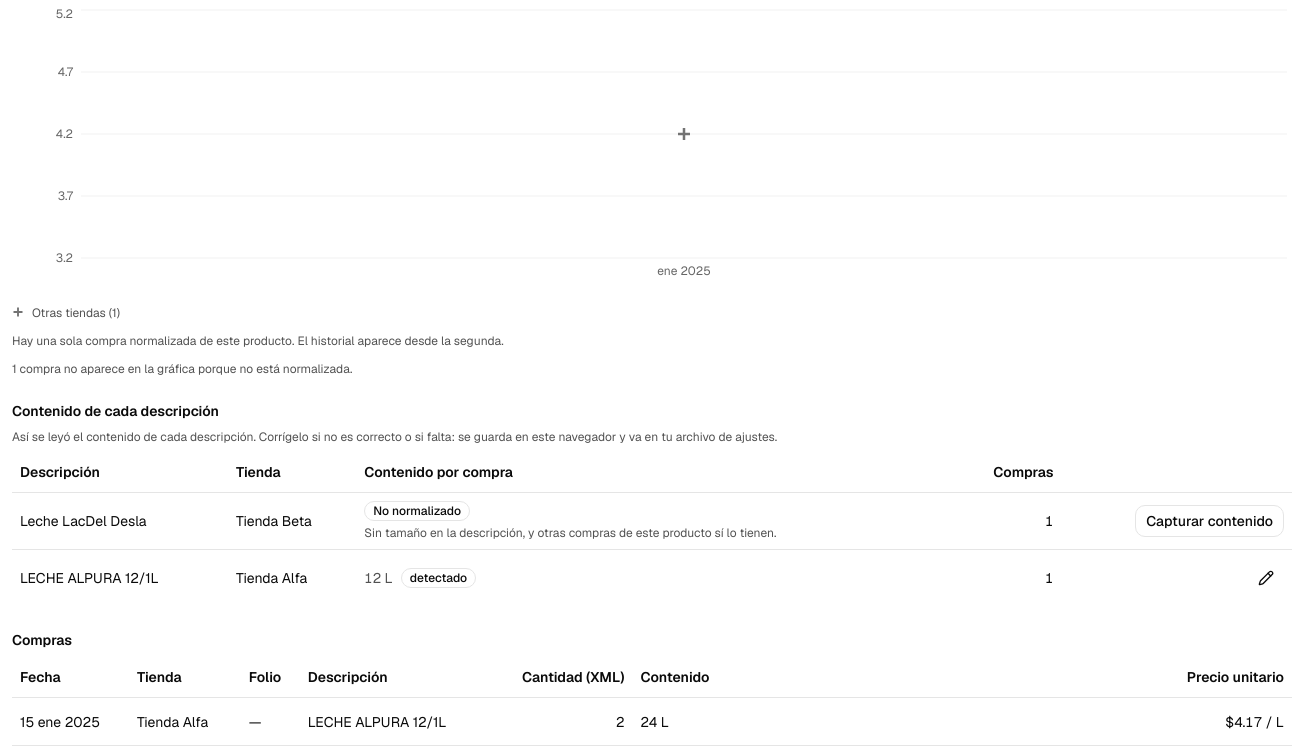
Test: Content editor: opening, fields and live preview (D-13, D-14) › opens under the member, focuses «Piezas por paquete» and shows labels, helper and the unit options
The width and height of the screenshot is (1304, 756).
(page scrolled)
What coordinates should you click on to do the following:
click the button "Capturar contenido"
I would click on:
 (1210, 521)
Its box is left=1135, top=505, right=1284, bottom=537.
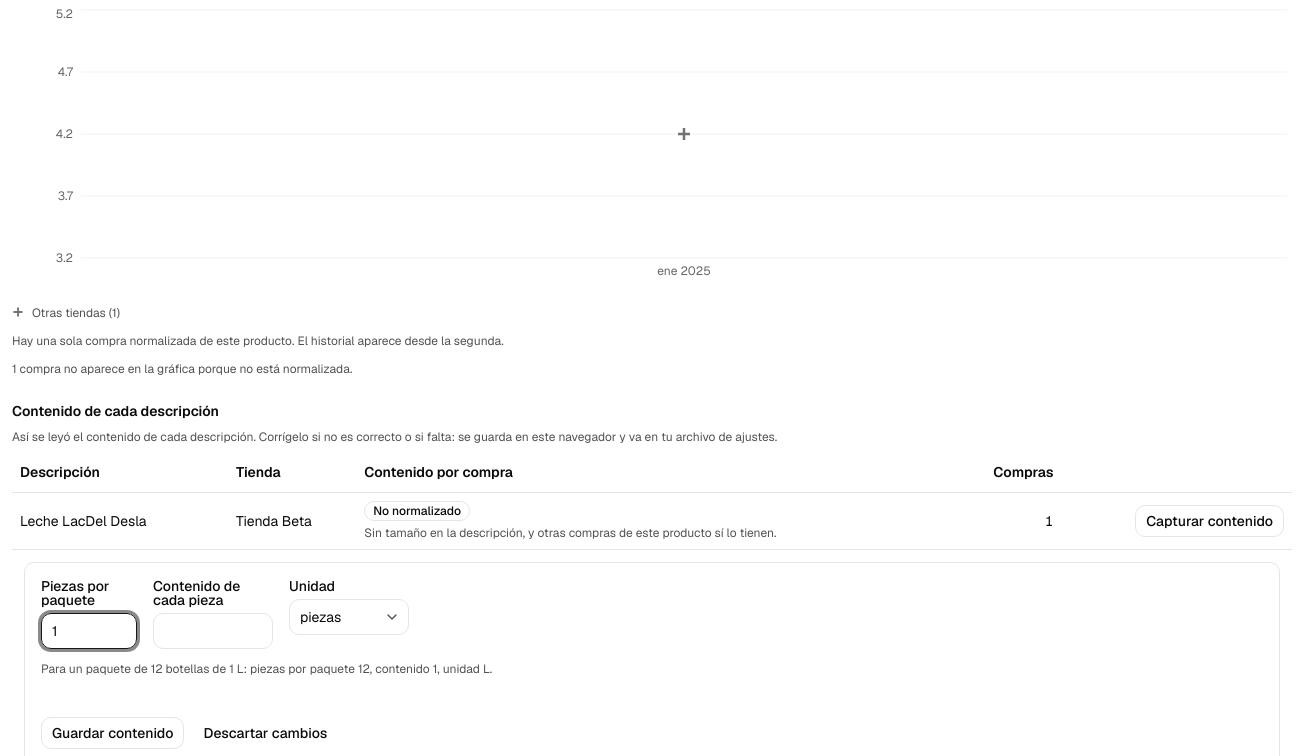
Expected: the field labelled "Piezas por paquete" holds "1", left=41, top=613, right=137, bottom=649
Expected: the text "Para un paquete de 12 botellas de 1 L: piezas por paquete 12, contenido 1, unidad L." is shown, left=41, top=661, right=492, bottom=677
Expected: the button "Guardar contenido" is shown, left=41, top=717, right=184, bottom=749
What coordinates should you click on to do the following:
click the dropdown named "Unidad"
I would click on:
 (349, 617)
Its box is left=289, top=599, right=409, bottom=635.
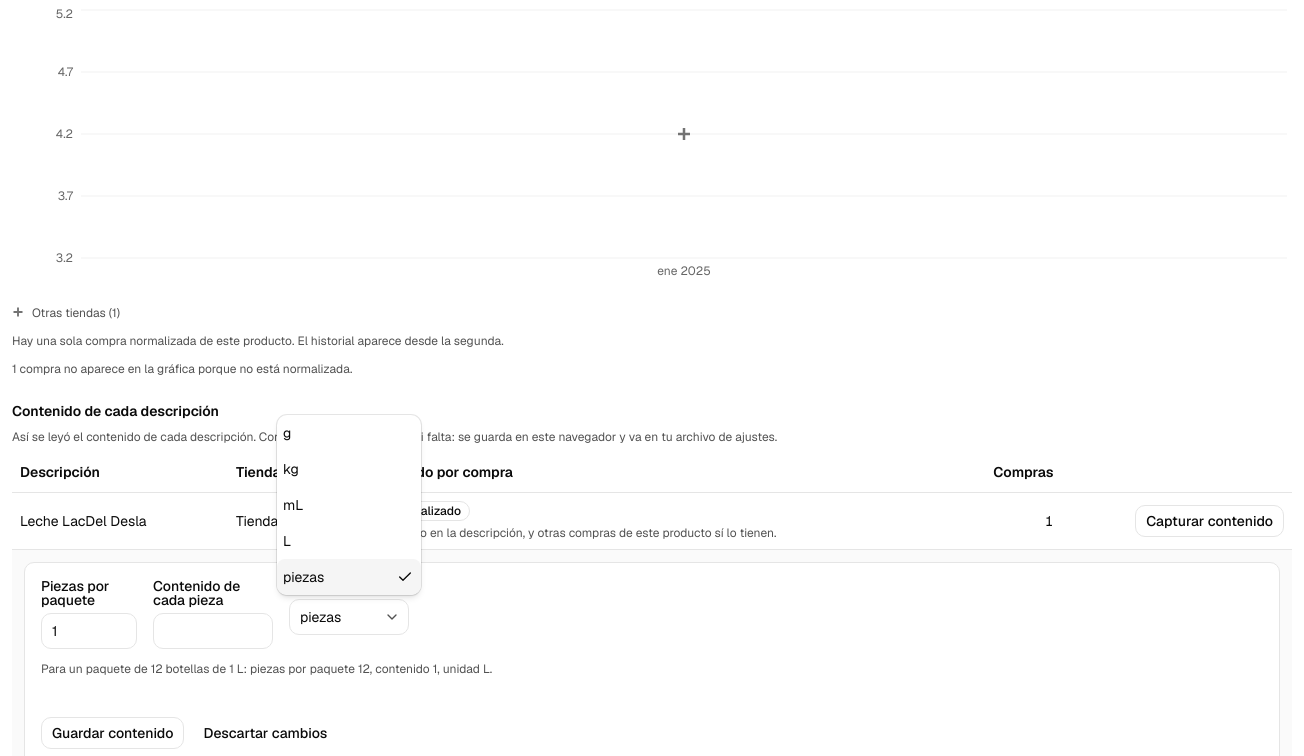
Expected: the options read "g", "kg", "mL", "L", "piezas", in this order, left=283, top=424, right=291, bottom=442; left=283, top=460, right=299, bottom=478; left=283, top=496, right=303, bottom=514; left=283, top=532, right=291, bottom=550; left=277, top=559, right=421, bottom=595
